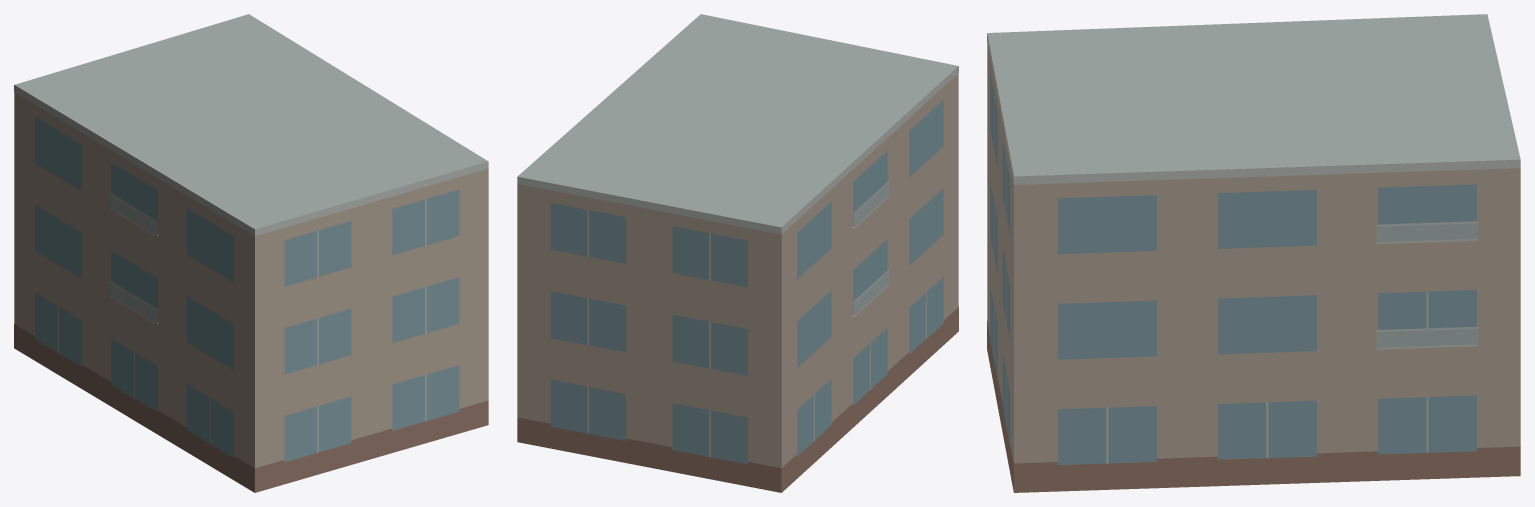
File: survey-upis-32890602.glb
3 views of the same model, side by side, from view 1: azimuth 30°, elevation 25°; view 2: azimuth 150°, elevation 25°; view 3: azimuth 270°, elevation 25° (orthographic). The views are drawn at different scales.
Parts seen in each view (by area): view 1: survey-upis-32890602.tmp; view 2: survey-upis-32890602.tmp; view 3: survey-upis-32890602.tmp.
Part boxes in pixels (box(x1,y1,x2,y2)): survey-upis-32890602.tmp: box(14, 14, 488, 492); survey-upis-32890602.tmp: box(517, 14, 958, 492); survey-upis-32890602.tmp: box(987, 14, 1520, 492).
Bounding box in the file's own units: 10.09 × 9.15 × 14.
